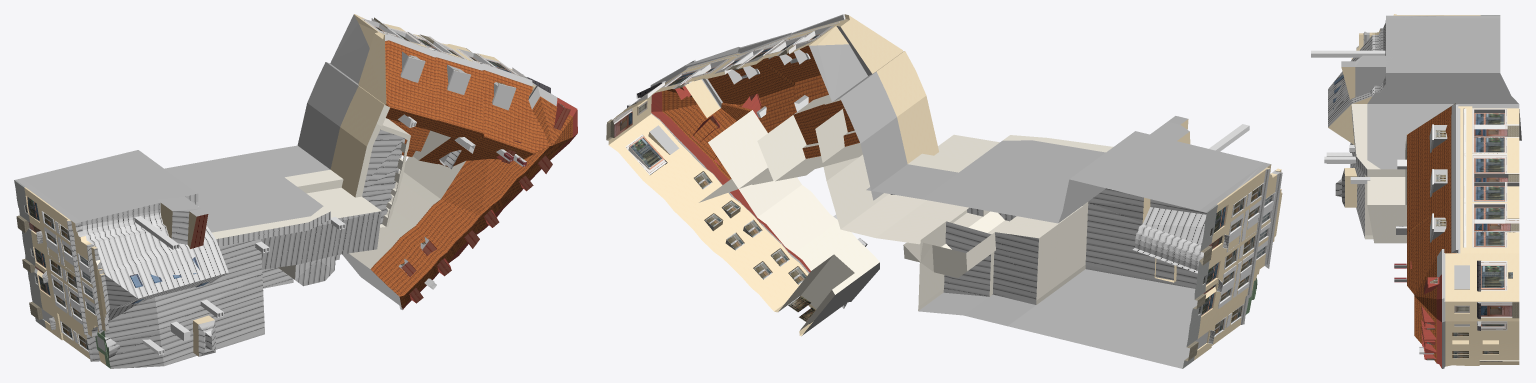
File: Suur-Karja_13-origo.obj
The picture shows the model from 3 angles, left to right: view 1: azimuth 30°, elevation 25°; view 2: azimuth 150°, elevation 25°; view 3: azimuth 270°, elevation 25°; orthographic projection. The views are drawn at different scales.
Visible parts, largest first — view 1: suurkarja13, xxx; view 2: suurkarja13, xxx; view 3: suurkarja13, xxx.
Boxes of the visible parts, x1=… form: suurkarja13: x1=14, y1=14, x2=577, y2=368; xxx: x1=16, y1=14, x2=401, y2=306; suurkarja13: x1=606, y1=14, x2=1282, y2=368; xxx: x1=802, y1=26, x2=1270, y2=368; suurkarja13: x1=1311, y1=14, x2=1519, y2=368; xxx: x1=1341, y1=15, x2=1521, y2=169.
Size of the model in its own units: 69.06 by 33.5 by 24.54.
